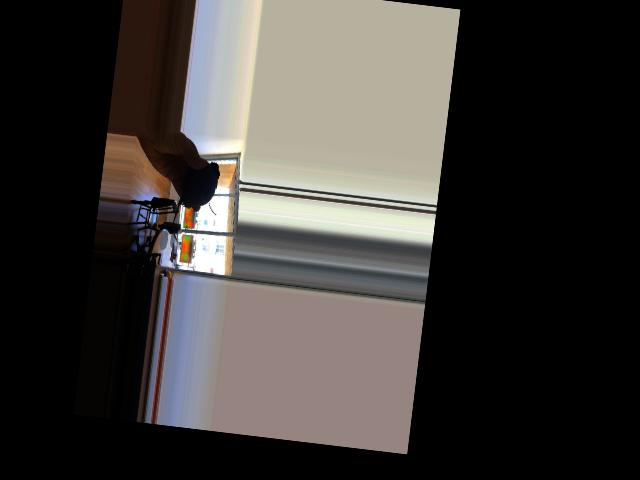beet: (170, 158, 221, 246)
